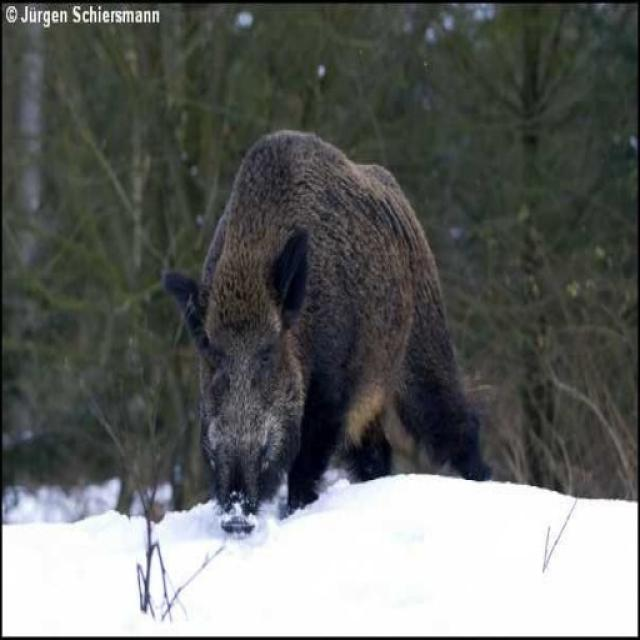pig: (146, 80, 542, 516)
